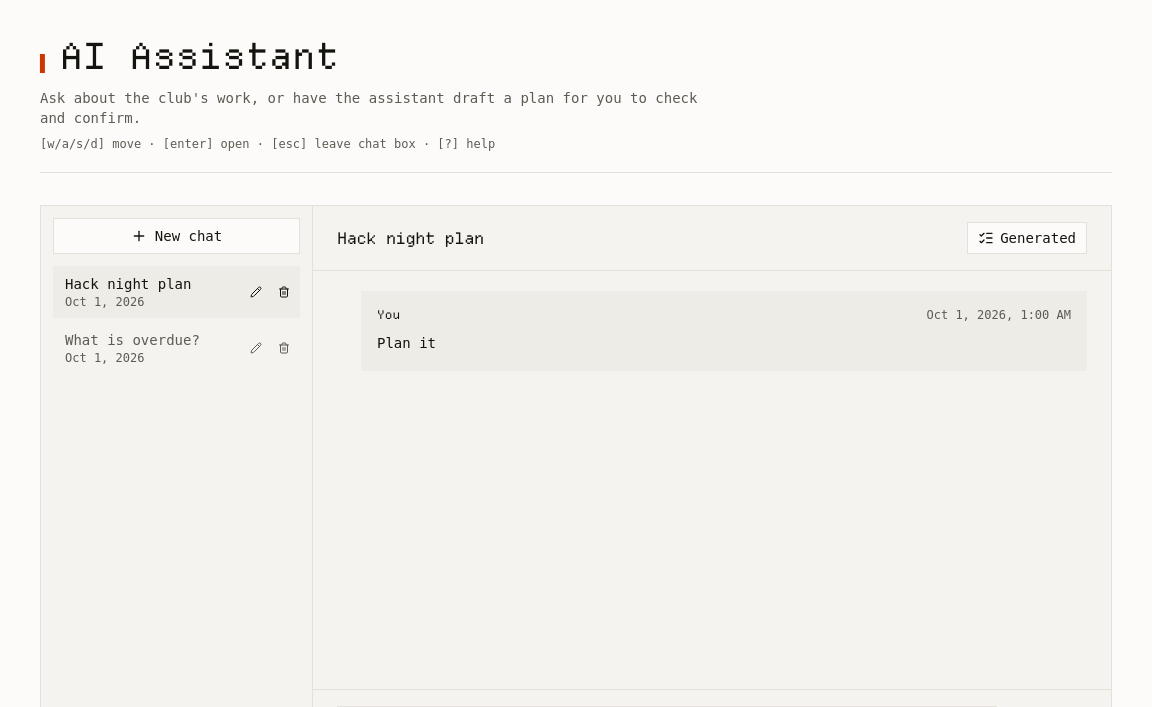
deletes the open chat only after confirming, then returns to a blank chat
The width and height of the screenshot is (1152, 707).
Expected: the text "Plan it" is shown, [377,335,436,351]
Click the button named "Delete Hack night plan". click: [284, 292]
box: [272,280,296,304]
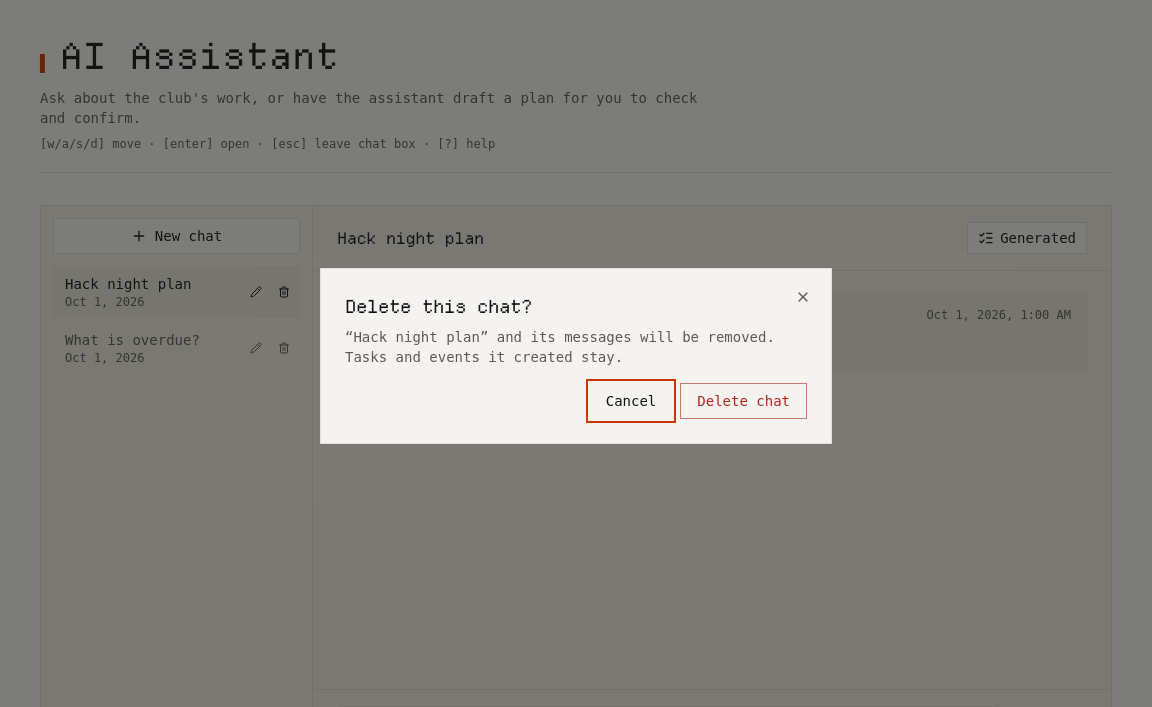
Click the button "Delete chat". click: [744, 401]
box: [680,383,807,419]
(page scrolled)
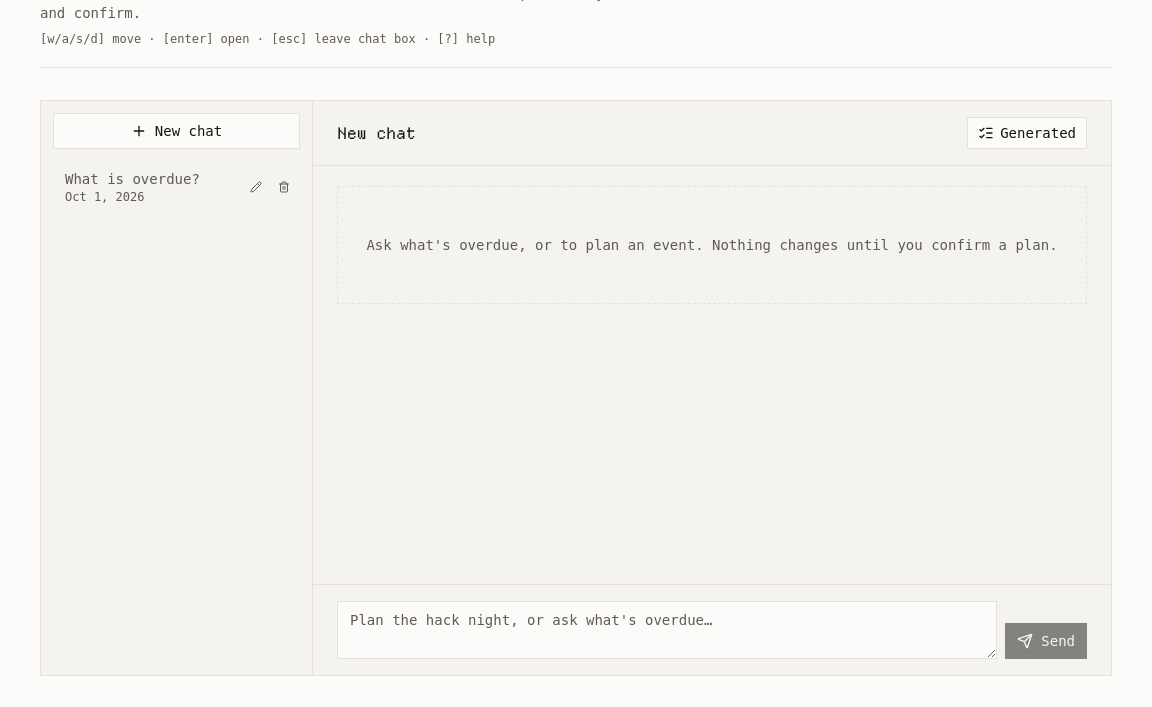
Expected: the text box named "Message the assistant" is shown, [337,601,997,659]
Expected: the link "Hack night plan" is gone
